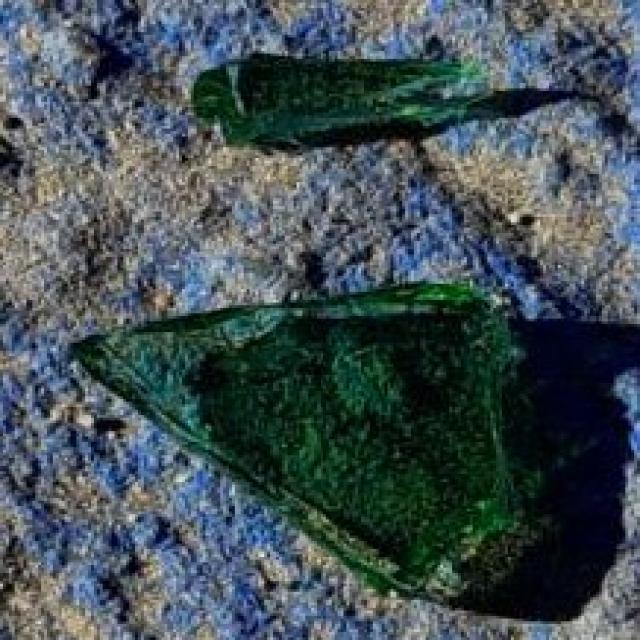Dry: (69, 278, 517, 597), (175, 54, 518, 153)
